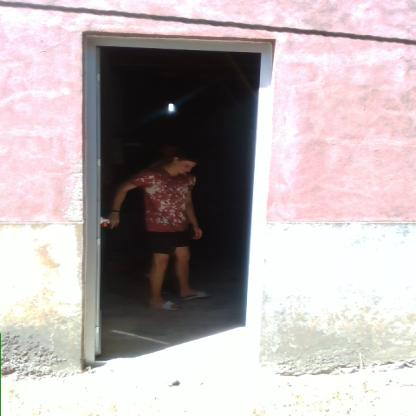open: (64, 24, 275, 367)
